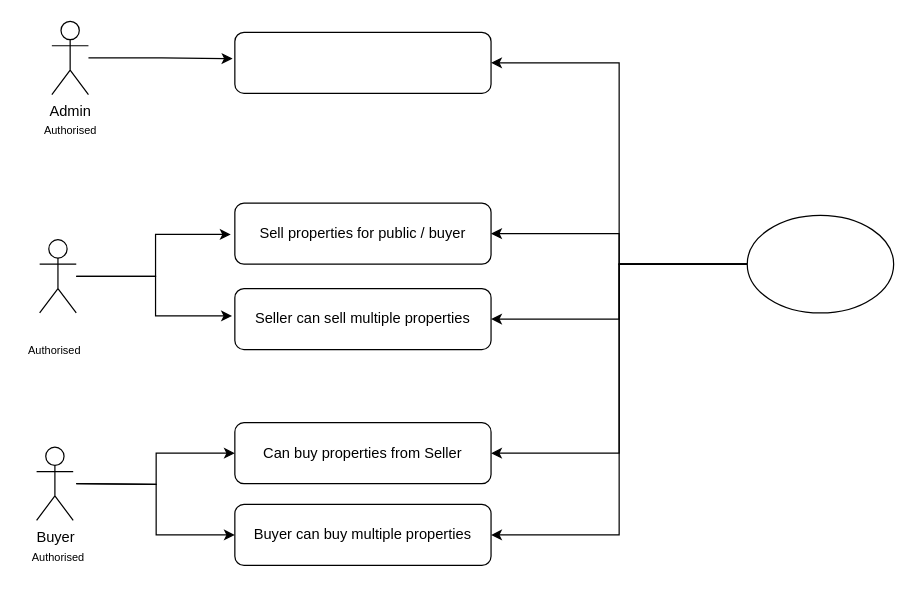
Image size: 915x590. Some labels were removed from this diagram. The centre of each missing label's shape, as x and y in pixels:
"Authentication Required" belongs at (x=820, y=263).
"Manage All Access" belongs at (x=362, y=62).
"Seller" belongs at (x=57, y=276).
